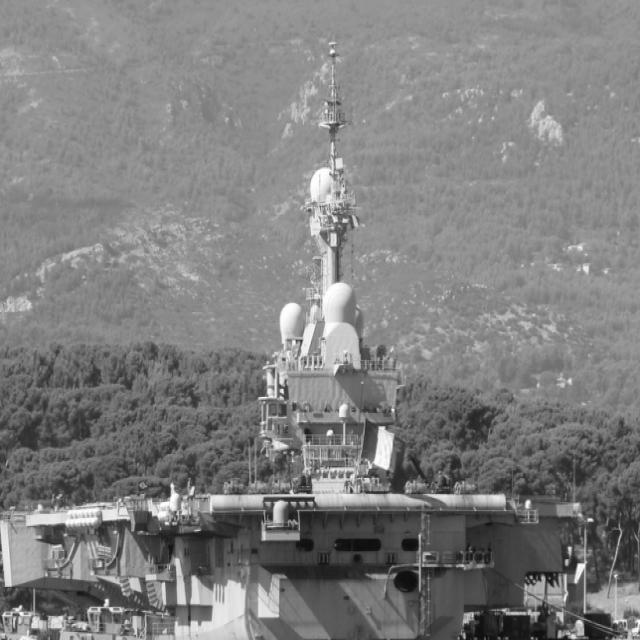Portanaves: (1, 64, 588, 640)
